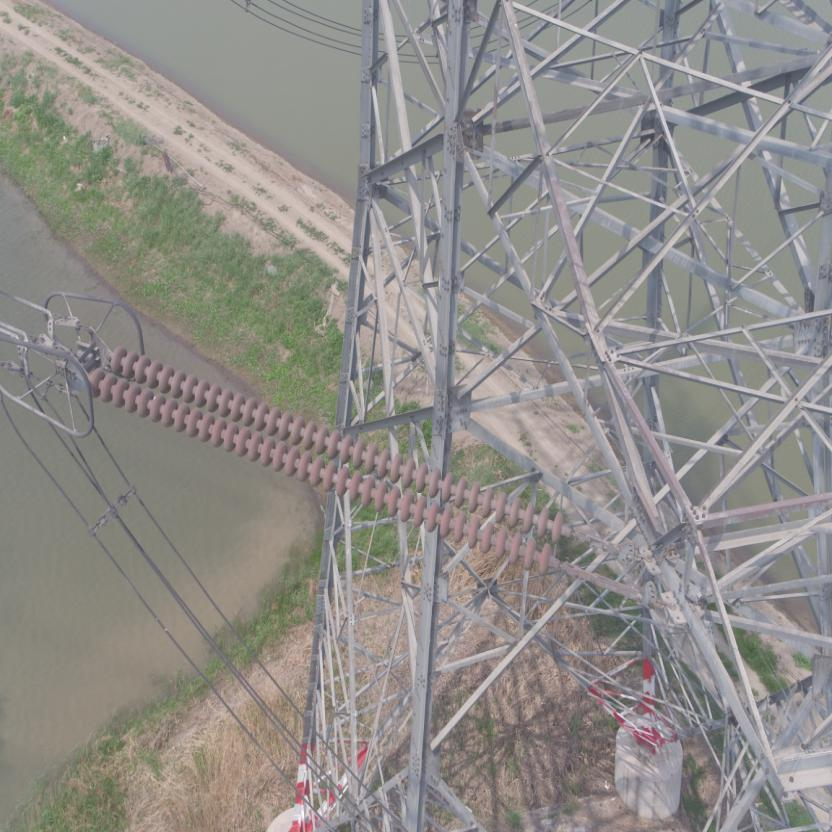insulator: (74, 340, 614, 580)
